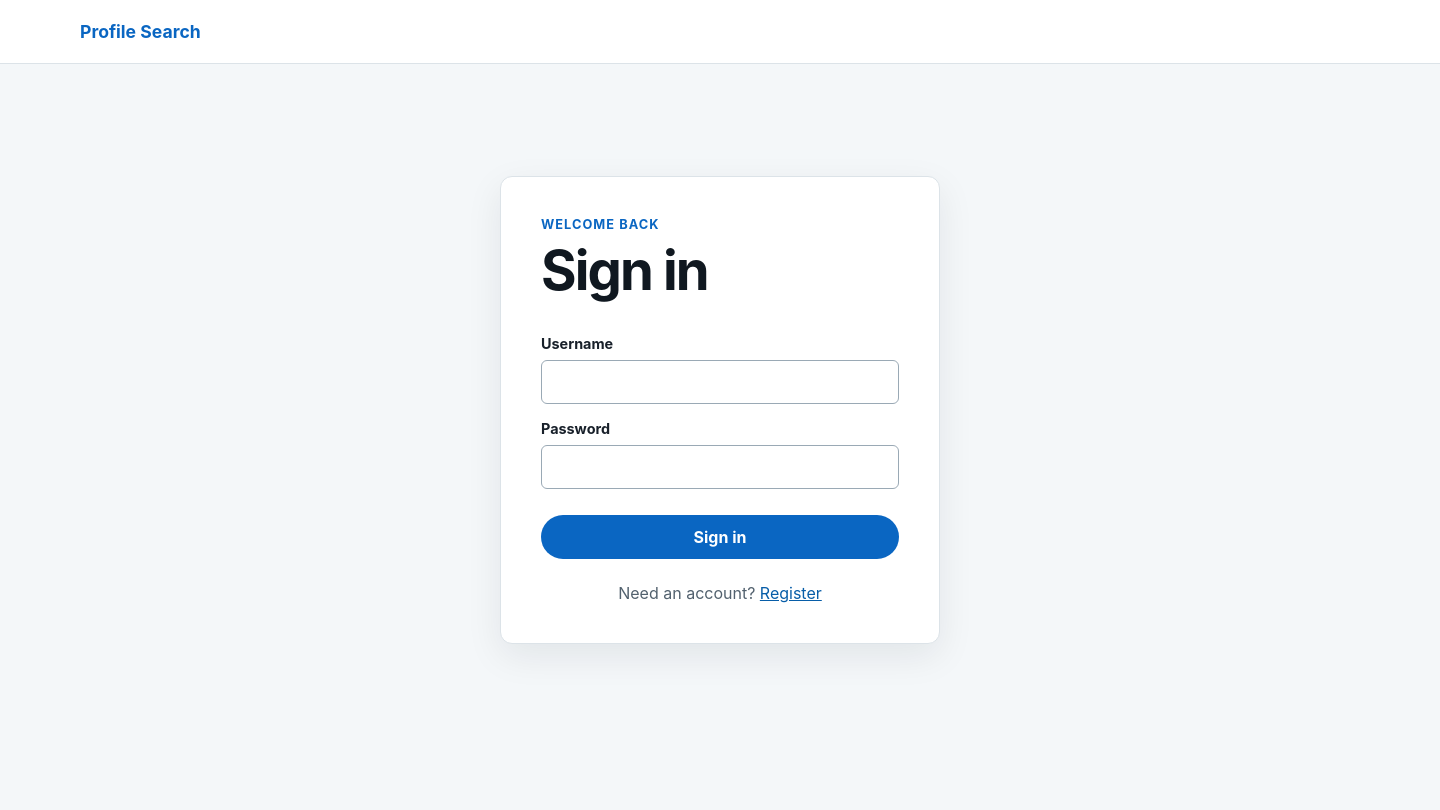
it: a network failure is distinct from a server response
Check: the heading "Sign in" is shown, box [541, 237, 708, 303]
Type "reviewer" into the field labelled "Username". click: (720, 382)
box: [541, 360, 899, 404]
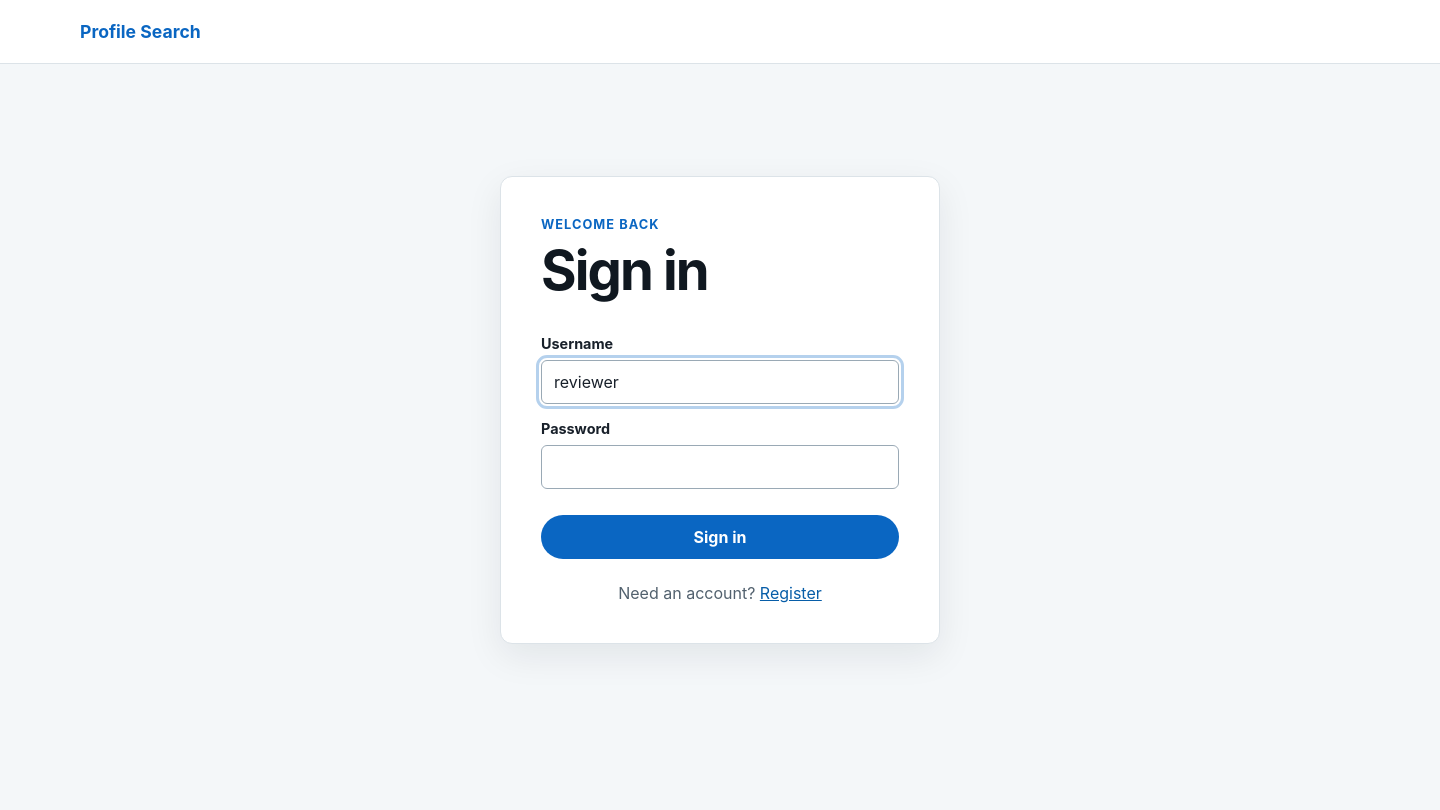
Type "password" into the password field labelled "Password". click: (720, 467)
box: [541, 445, 899, 489]
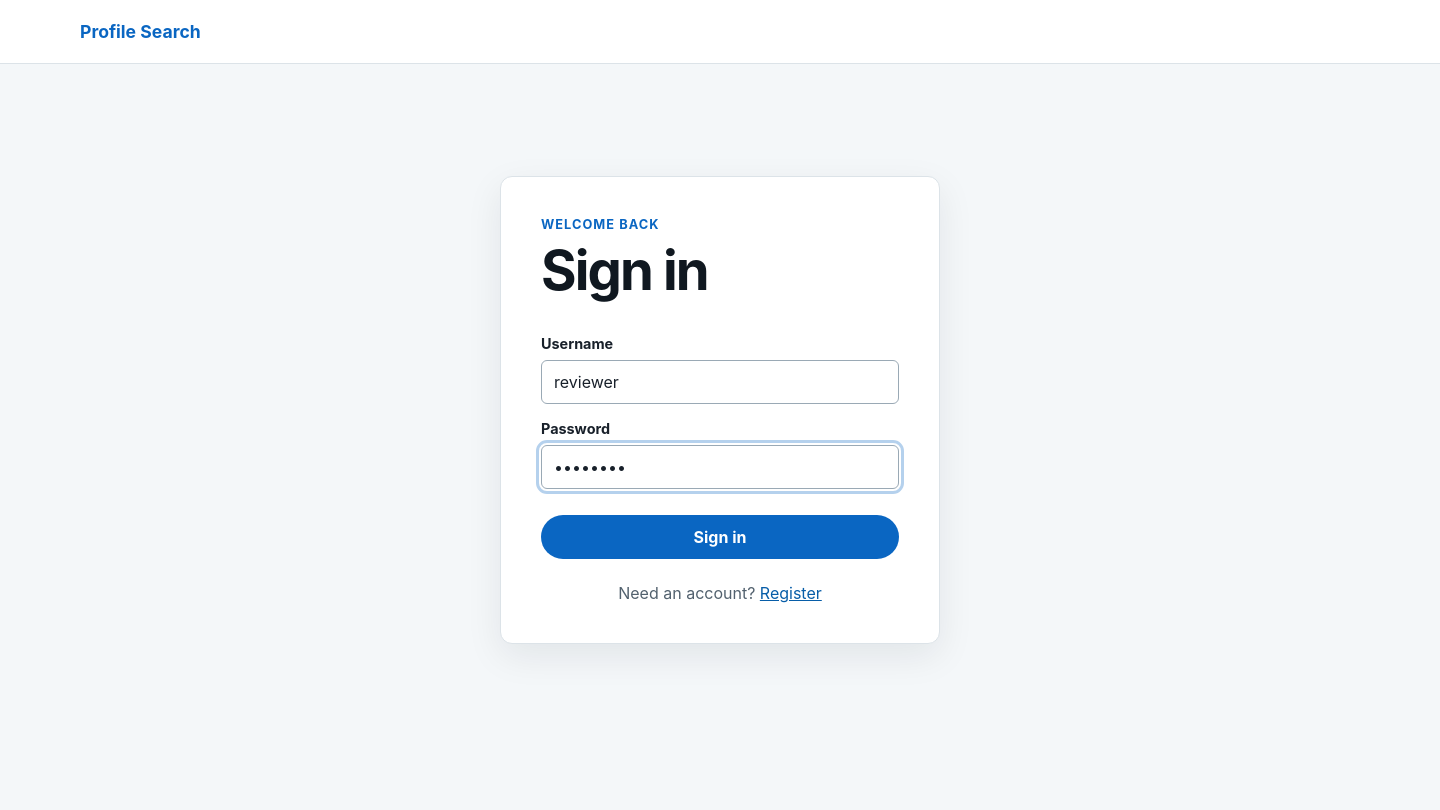
Click the button "Sign in". click: (720, 537)
box: [541, 515, 899, 559]
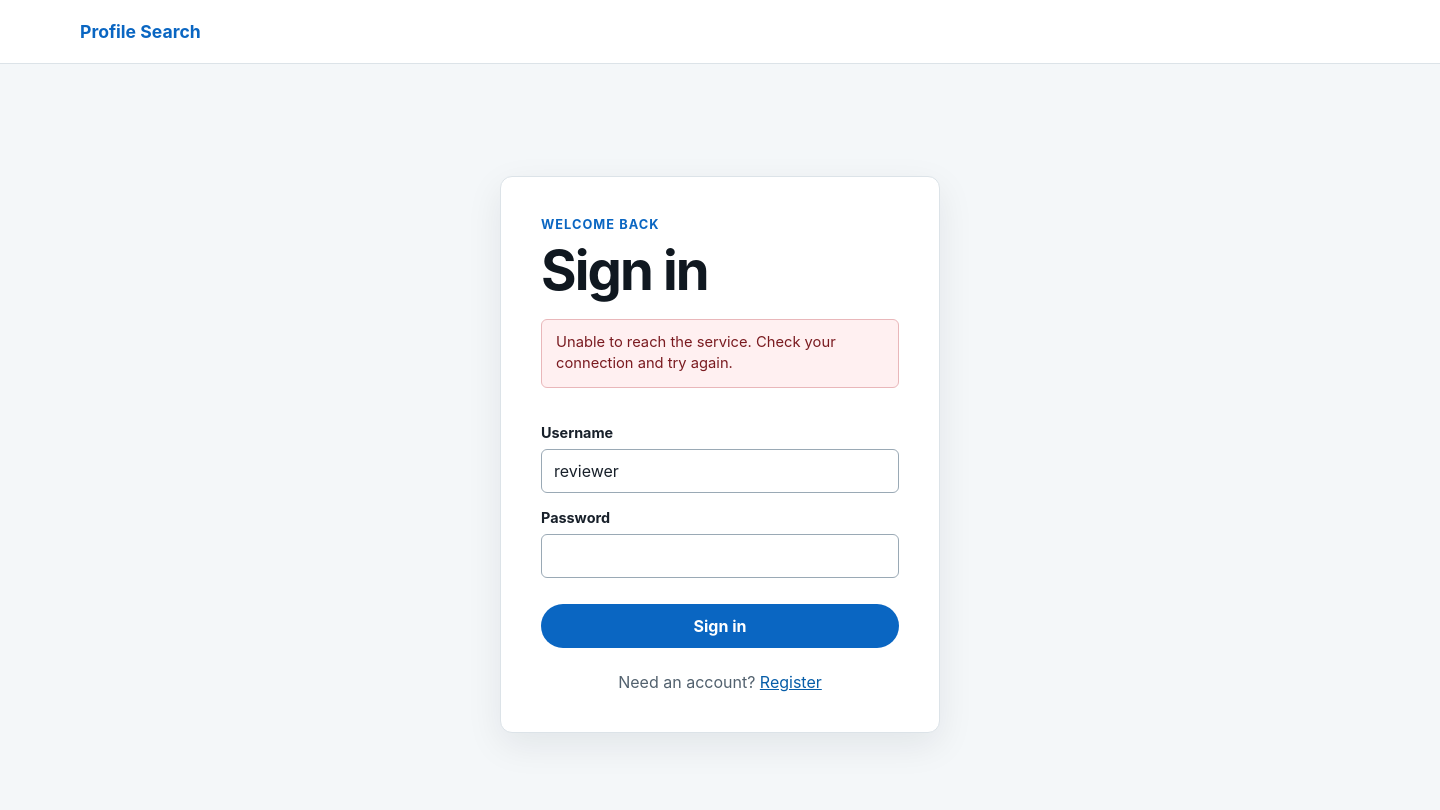
Check: the message reads "Unable to reach the service. Check your connection and try again.", box [556, 333, 836, 372]
